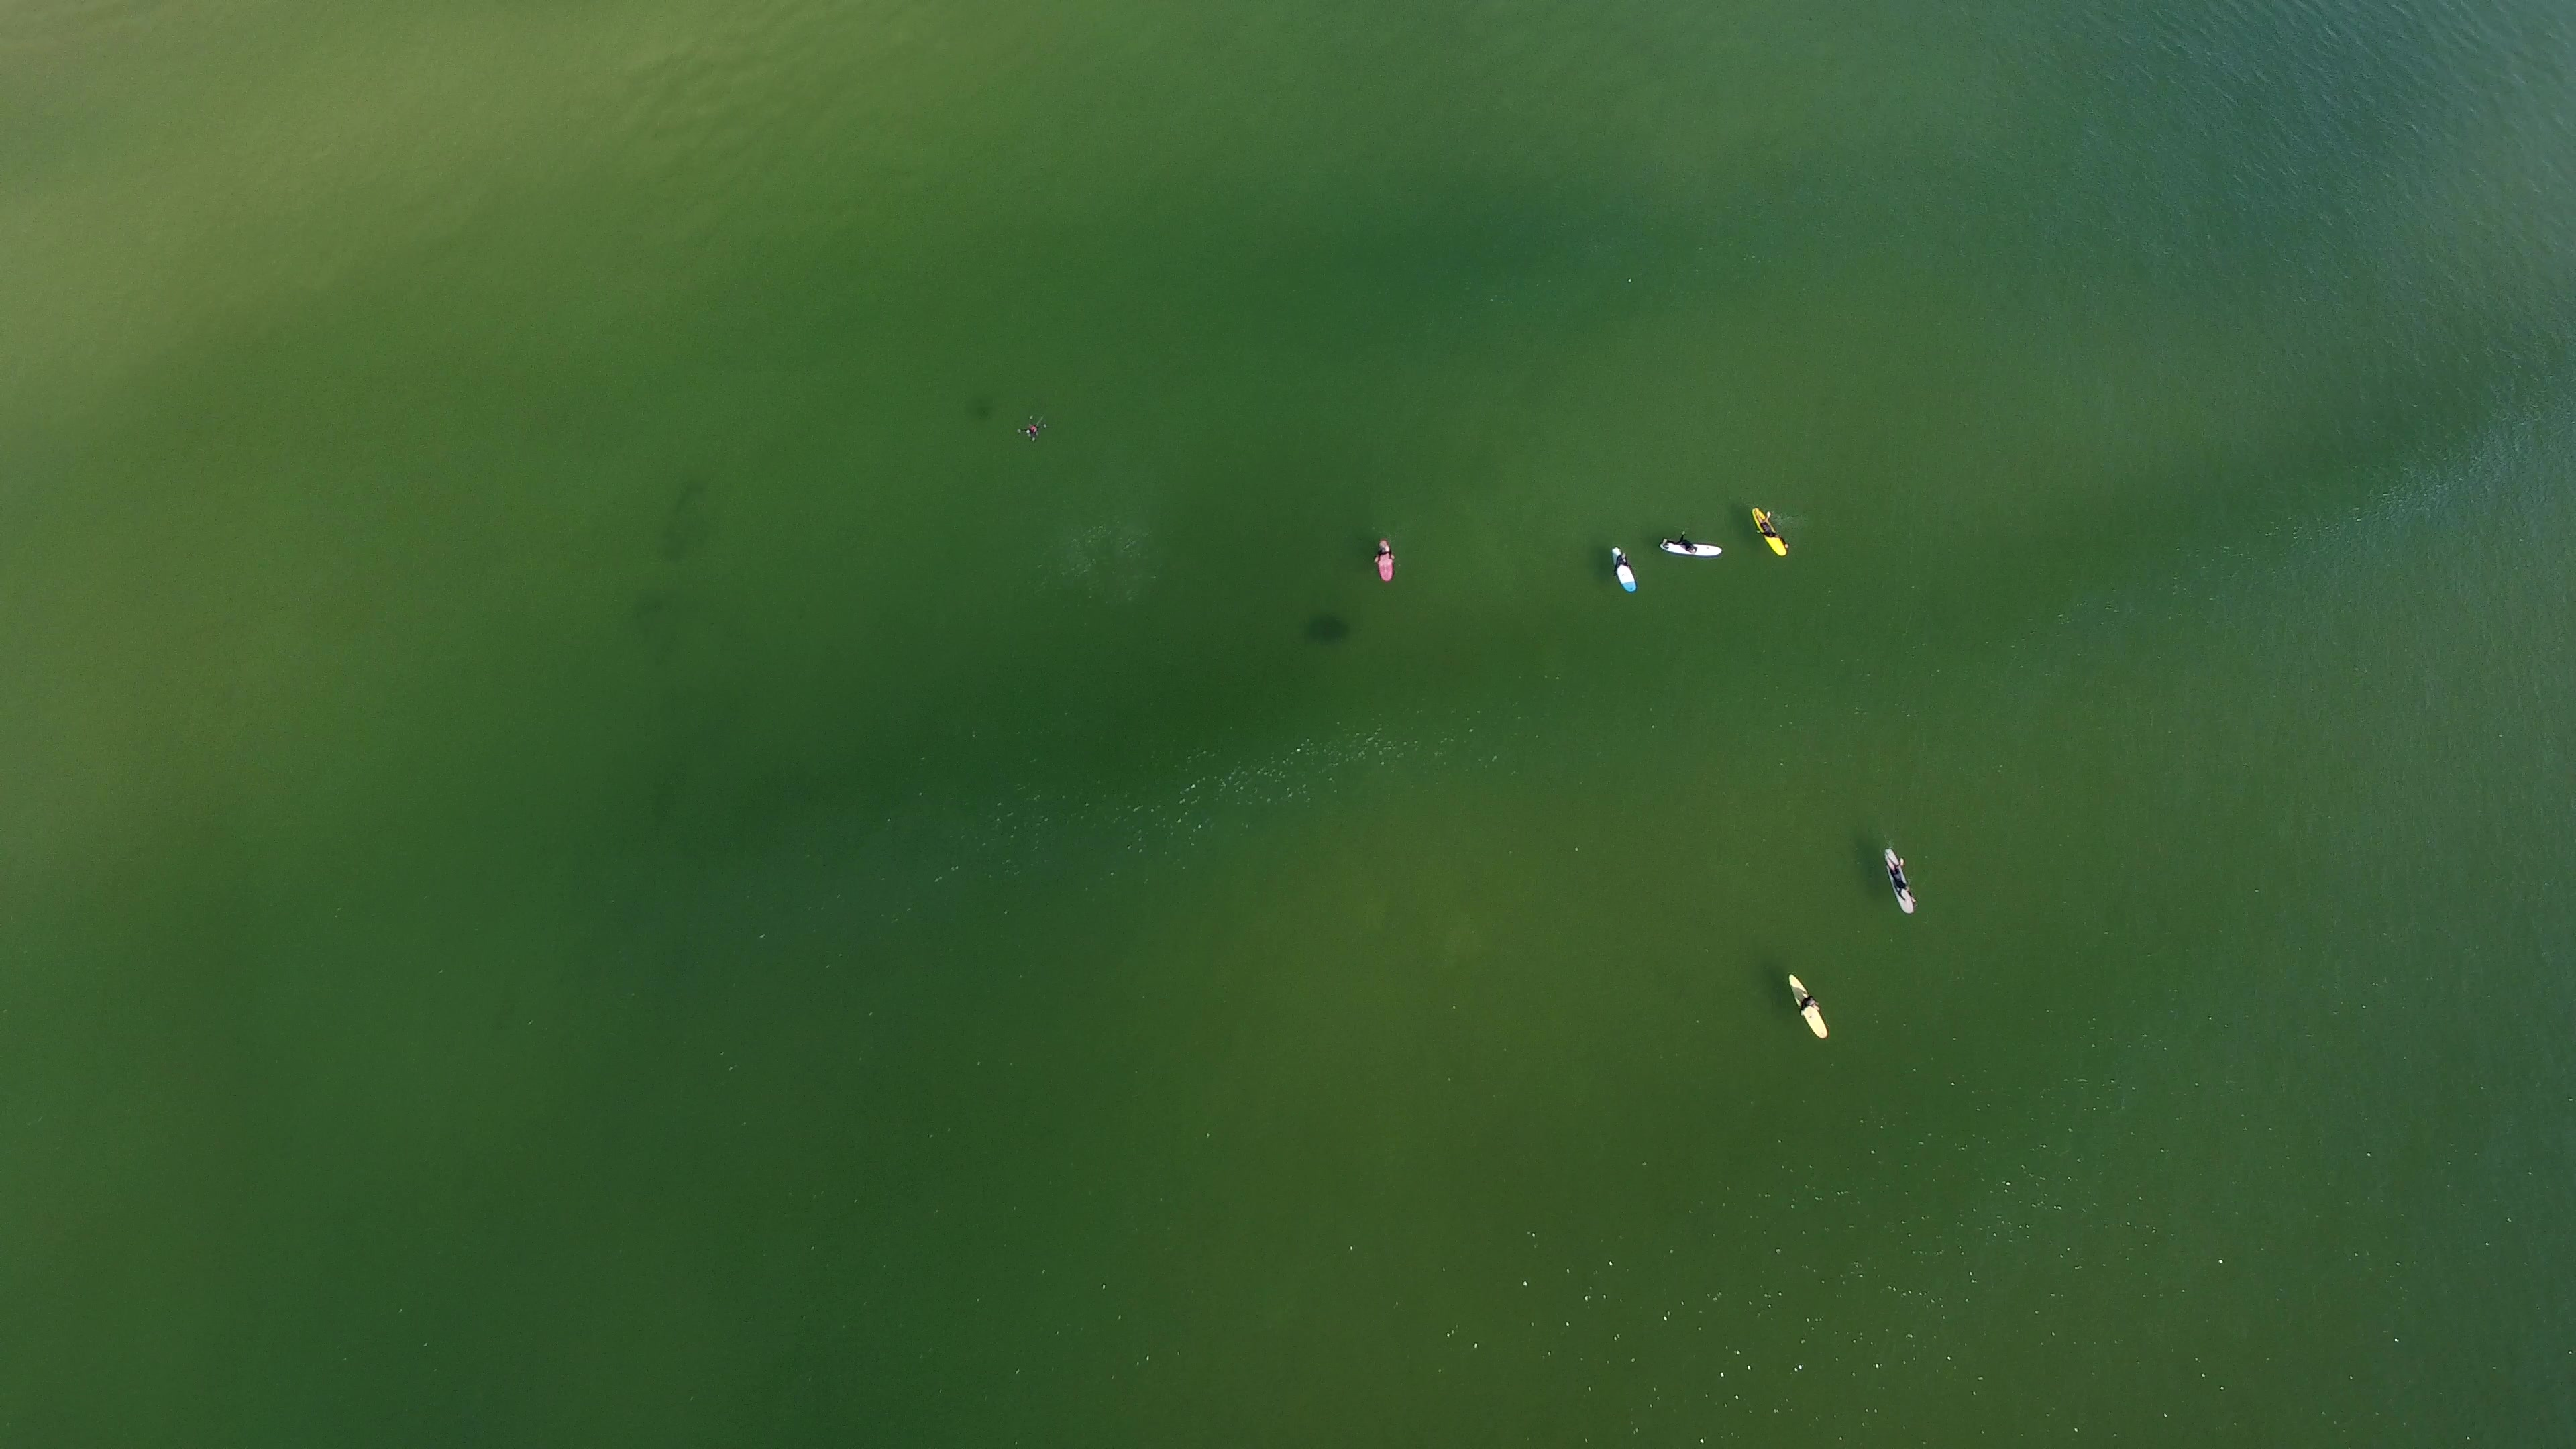surfer: (1780, 970, 1836, 1047), (1746, 490, 1798, 568), (1879, 846, 1921, 925), (1652, 527, 1734, 564), (1599, 541, 1645, 603), (1368, 531, 1401, 589)
